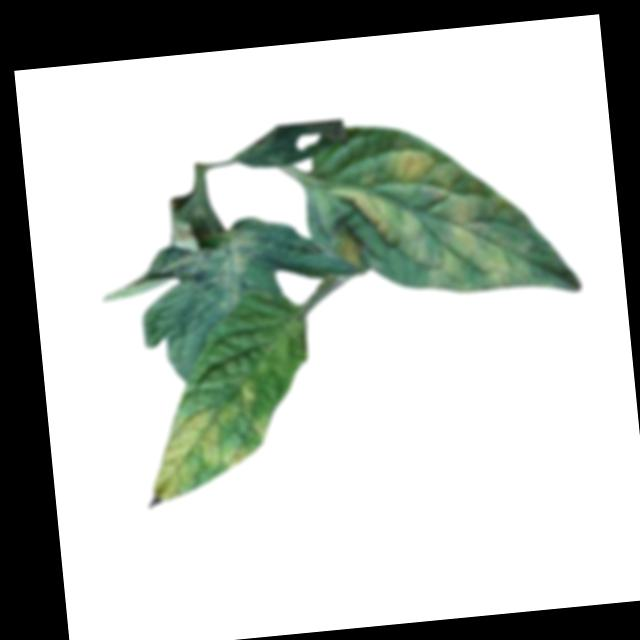Leaf_Mold: (327, 118, 540, 304), (143, 379, 276, 503), (153, 222, 263, 317)
